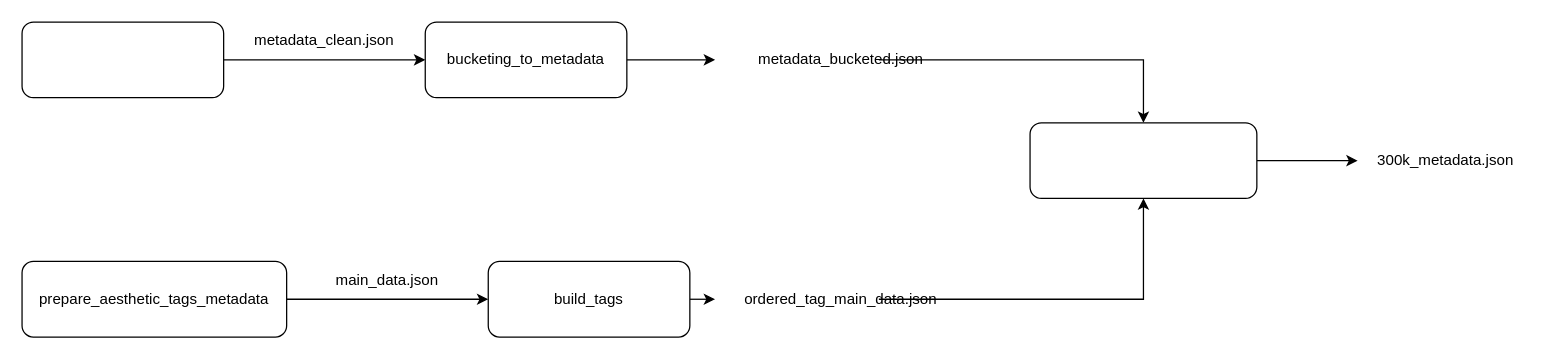
Image size: 1556x359. Some labels were removed from this diagram. Each missing label, with the centre of its shape:
merge_all_to_metadata: pixel 122 59
merge_final_train_metadata: pixel 1143 160
